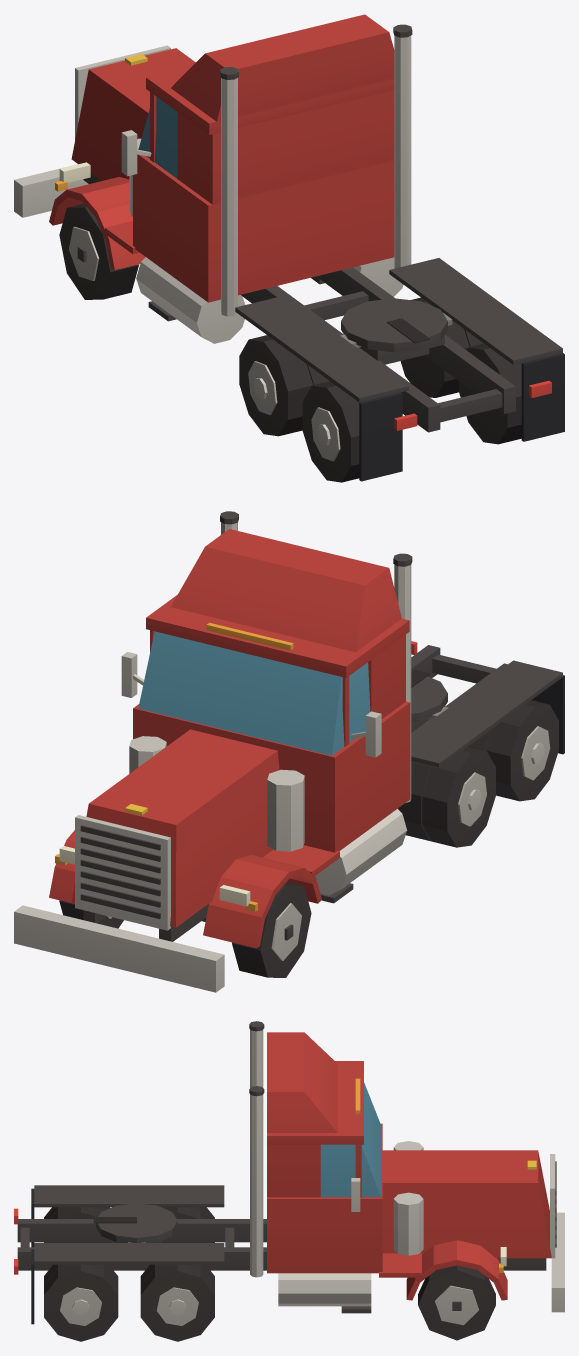
Rendered from truck_basic.glb.
3 views of the same model, one above another, from view 1: azimuth 30°, elevation 25°; view 2: azimuth 150°, elevation 25°; view 3: azimuth 270°, elevation 25° (orthographic). The views are drawn at different scales.
Visible parts, largest first — view 1: truck_basic, spin_drive_1_L, spin_drive_2_L, saddle, spin_front_L, spin_drive_2_R, spin_drive_1_R; view 2: truck_basic, spin_drive_1_L, spin_drive_2_L, spin_front_L, saddle; view 3: truck_basic, spin_drive_1_R, spin_drive_2_R, spin_front_R, saddle, spin_drive_2_L, spin_drive_1_L.
Boxes of the visible parts, <box> form: truck_basic: <box>14,14,564,481</box>; spin_drive_1_L: <box>239,335,329,436</box>; spin_drive_2_L: <box>302,381,359,482</box>; saddle: <box>340,298,452,352</box>; spin_front_L: <box>59,203,138,299</box>; spin_drive_2_R: <box>459,344,521,444</box>; spin_drive_1_R: <box>400,297,483,397</box>; truck_basic: <box>14,511,564,992</box>; spin_drive_1_L: <box>398,746,495,847</box>; spin_drive_2_L: <box>468,700,558,801</box>; spin_front_L: <box>232,882,311,977</box>; saddle: <box>411,670,448,722</box>; truck_basic: <box>14,1021,564,1324</box>; spin_drive_1_R: <box>140,1264,214,1341</box>; spin_drive_2_R: <box>44,1264,118,1341</box>; spin_front_R: <box>418,1265,495,1340</box>; saddle: <box>93,1203,177,1242</box>; spin_drive_2_L: <box>44,1207,110,1242</box>; spin_drive_1_L: <box>162,1207,214,1242</box>.
Size of the model in its own units: 3.02 by 3.65 by 7.4.
Materials: 3 (3 with a texture image).
